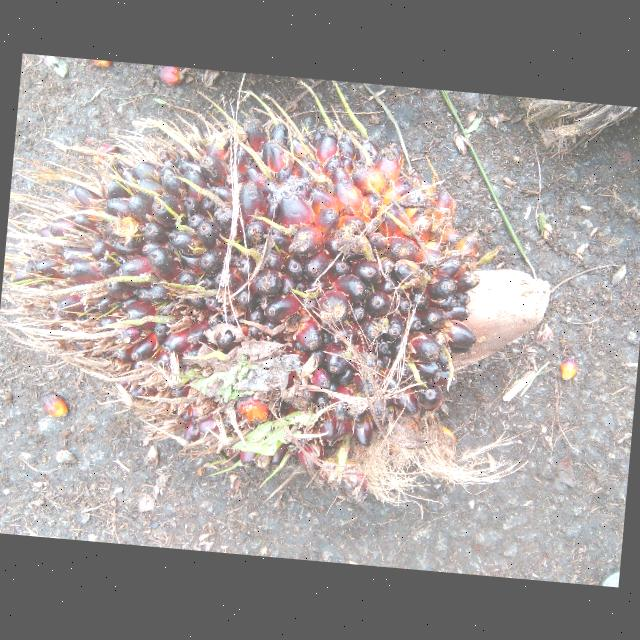Unripe: (22, 123, 484, 460)
